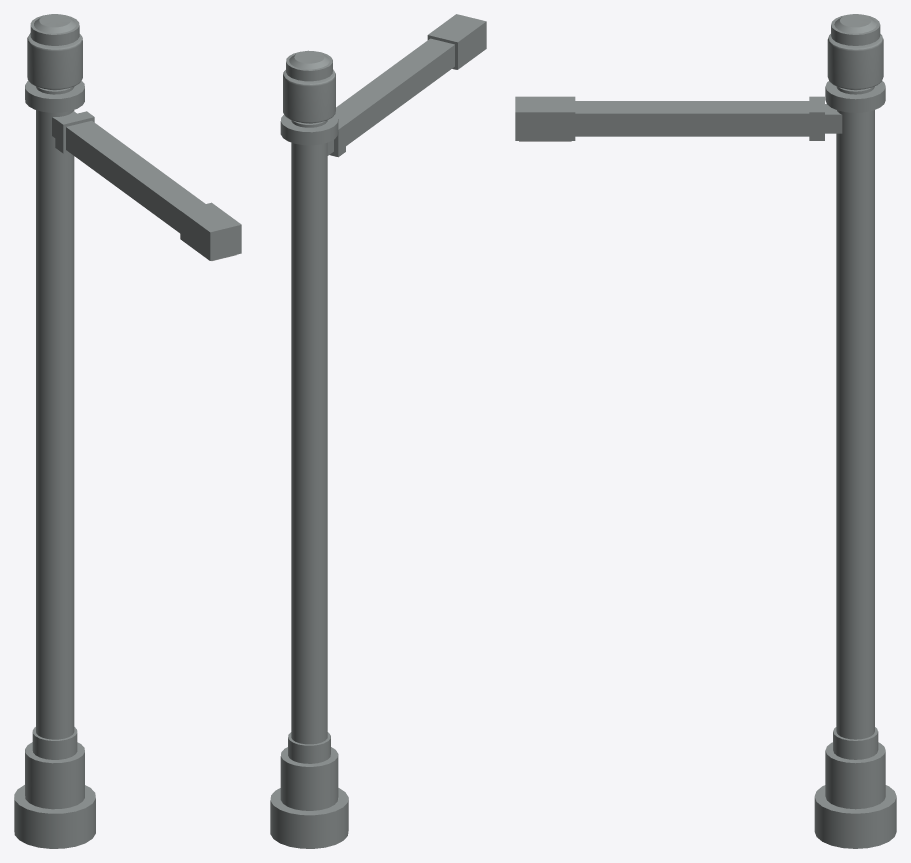
File: Lamp_Post.fbx
3 renders of one model, left to right at view 1: azimuth 30°, elevation 25°; view 2: azimuth 150°, elevation 25°; view 3: azimuth 270°, elevation 25°, orthographic. The views are drawn at different scales.
Parts seen in each view (by area): view 1: lamp_Post; view 2: lamp_Post; view 3: lamp_Post.
Part boxes in pixels (x1,y1,x2,y2): lamp_Post: (14,14,241,848); lamp_Post: (270,14,486,848); lamp_Post: (515,14,896,848).
Size of the model in its own units: 7.62 by 82.9 by 35.34.
